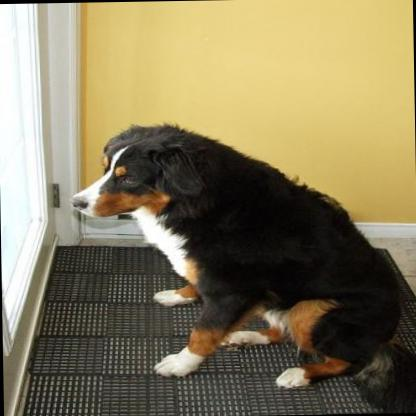Bernese_mountain_dog: (66, 116, 416, 416)
